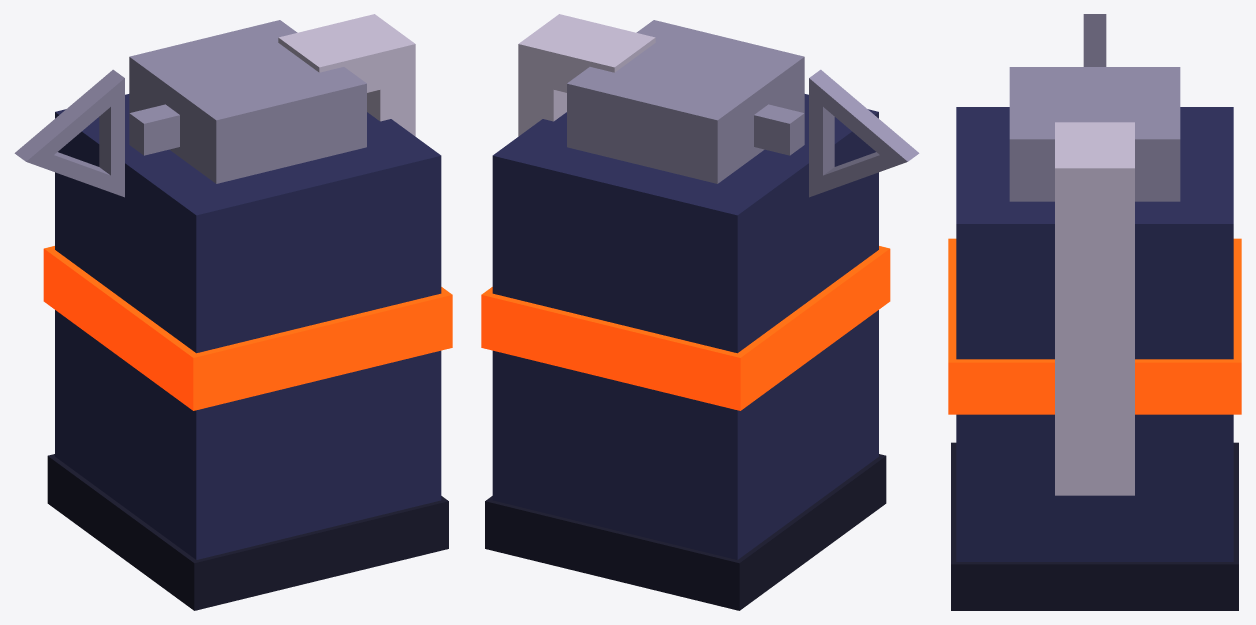
Rendered from grenade.lod1.glb.
3 renders of one model, left to right at view 1: azimuth 30°, elevation 25°; view 2: azimuth 150°, elevation 25°; view 3: azimuth 270°, elevation 25°, orthographic. The views are drawn at different scales.
Parts seen in each view (by area): view 1: item.grenade.body, part.pin; view 2: item.grenade.body, part.pin; view 3: item.grenade.body, part.pin.
Part boxes in pixels (left/top/right/bottom): item.grenade.body: left=43, top=14, right=452, bottom=610; part.pin: left=14, top=69, right=179, bottom=197; item.grenade.body: left=481, top=14, right=890, bottom=610; part.pin: left=754, top=69, right=919, bottom=197; item.grenade.body: left=948, top=67, right=1241, bottom=610; part.pin: left=1083, top=14, right=1106, bottom=66.
Bounding box in the file's own units: 0.2313 × 0.2852 × 0.1598.
